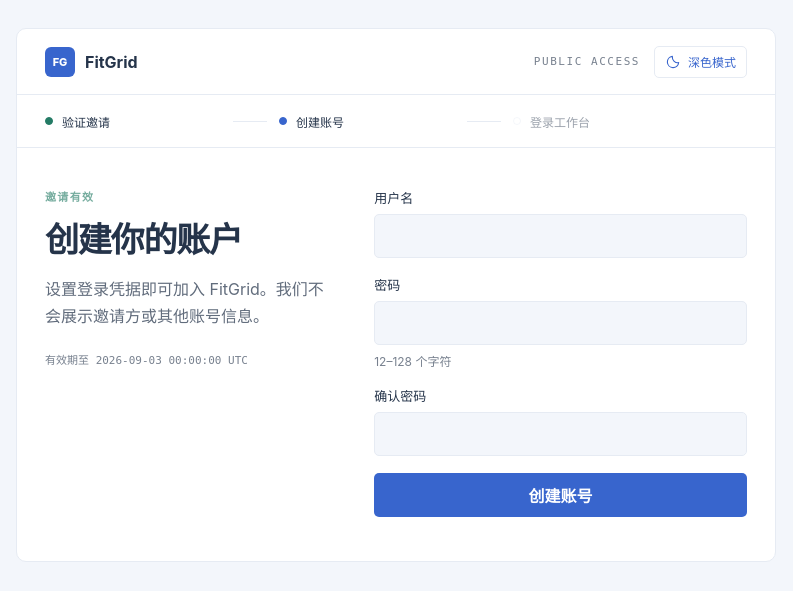
InvitationPageView › requires a 3–64 character username before accepting
Type "ab" into the field labelled "用户名". click: (561, 236)
box: [374,214,747,258]
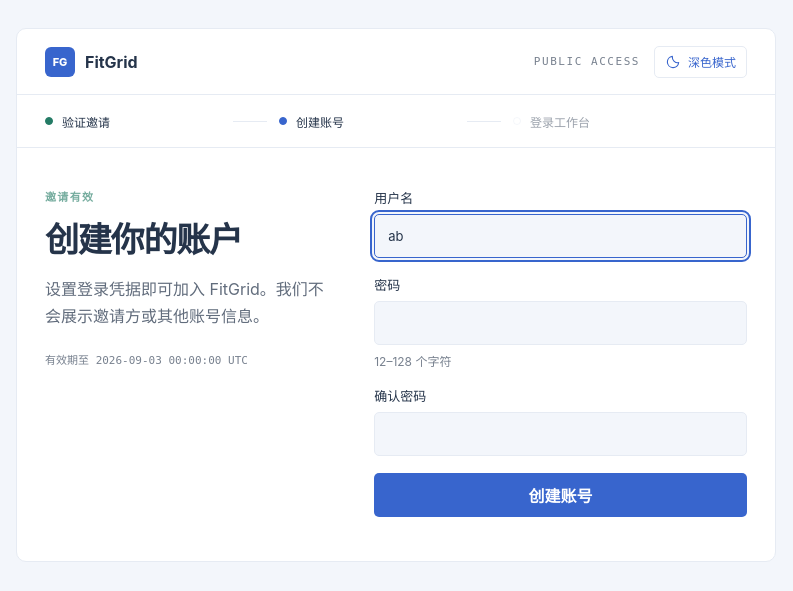
Type "strong-password-1" into the password field labelled "密码". click: (561, 323)
box: [374,301,747,345]
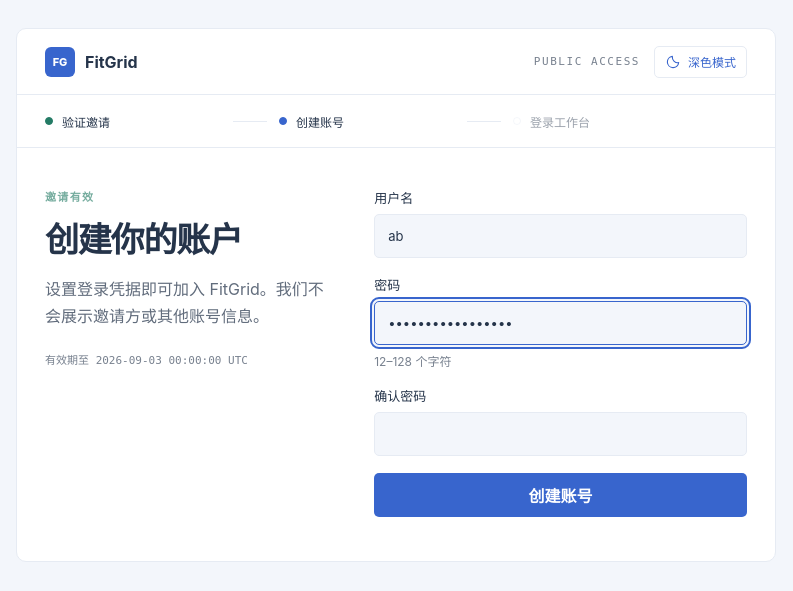
Type "strong-password-1" into the password field labelled "确认密码". click: (561, 434)
box: [374,412,747,456]
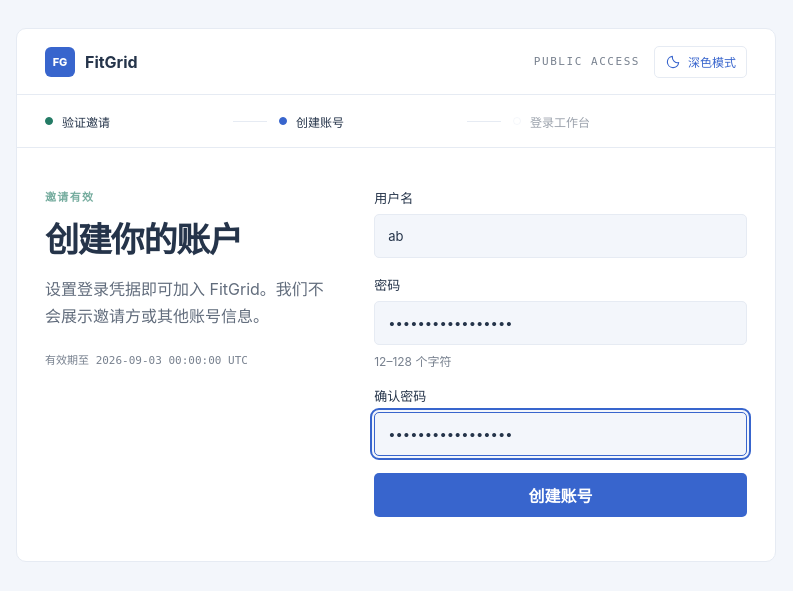
Click the button "创建账号". click: (561, 495)
box: [374,473,747,517]
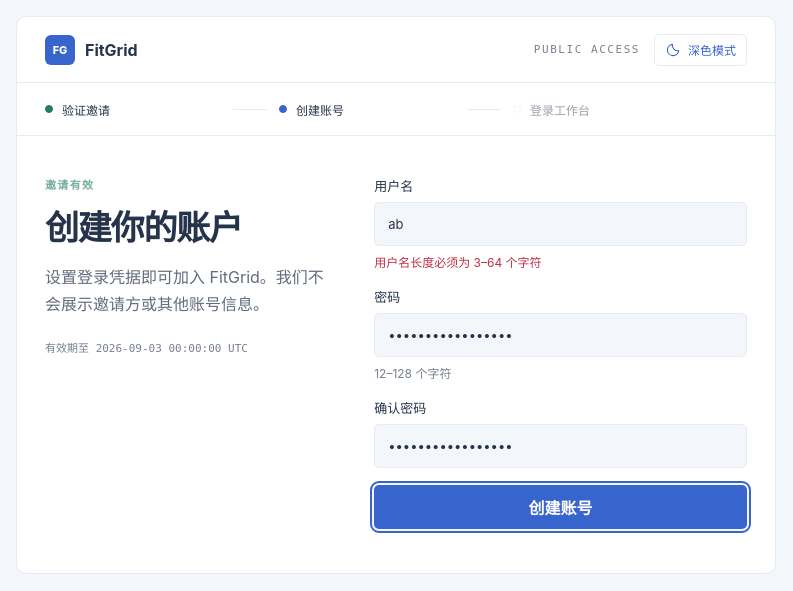
Now the text "用户名长度必须为 3–64 个字符" is shown, box [374,255,542,270]
